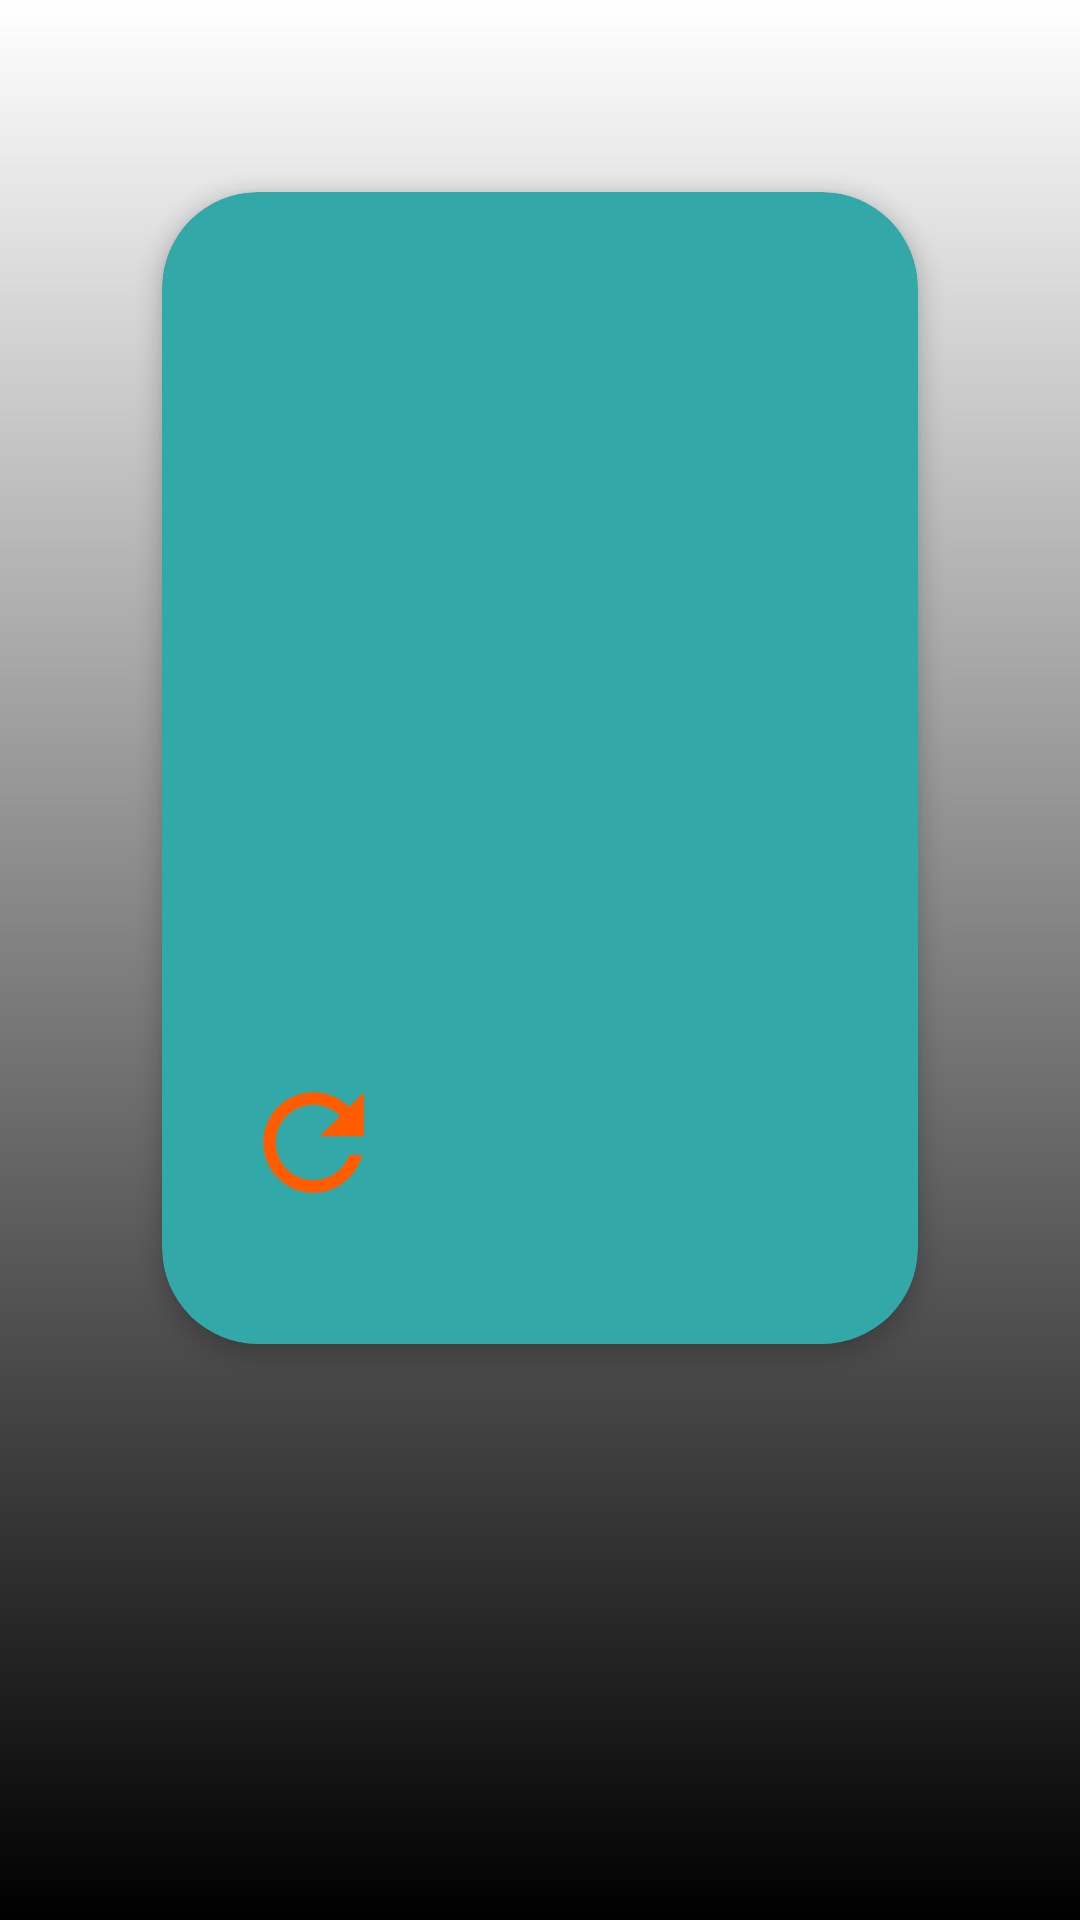

Where icons sit on this 1080 × 1920 app screen, as rect(x1, y1, x2, y2):
refresh: rect(263, 1092, 364, 1193)
